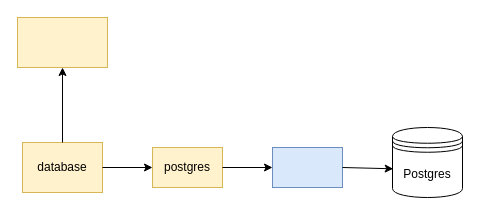
This 480x215 diagram has some shape labels left out. The centre of each missing label's shape, as x and y in pixels:
config: the point at 62,42
psycop2: the point at 307,167
